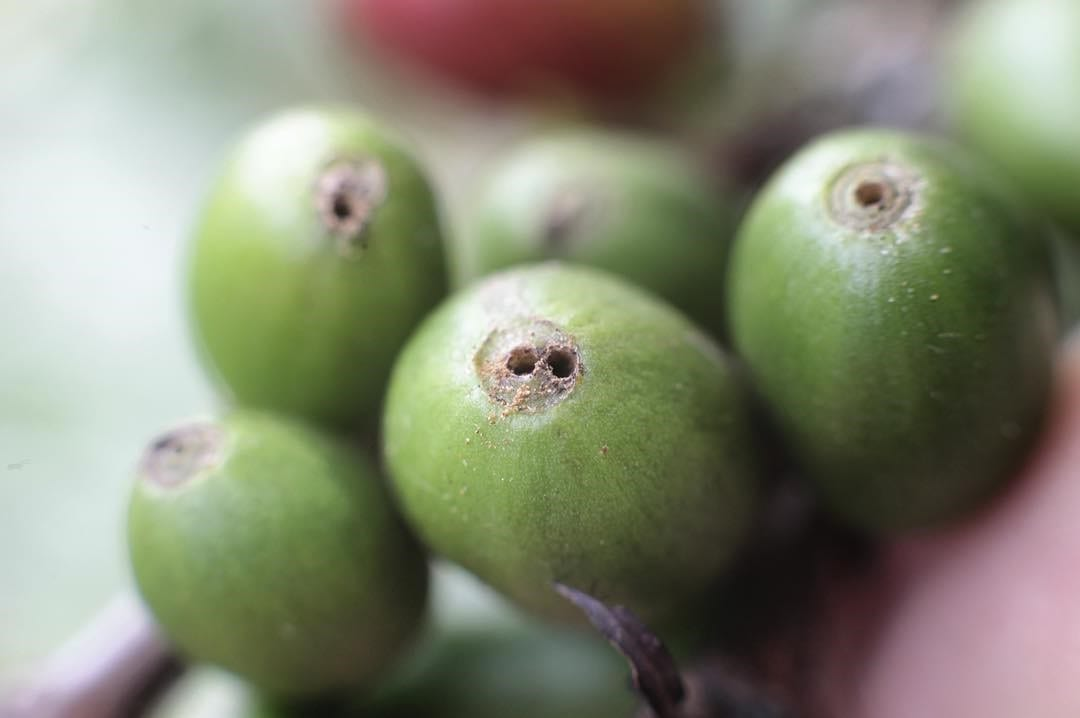broca de cafe: (768, 73, 1020, 509), (423, 226, 698, 601), (190, 66, 415, 472)
